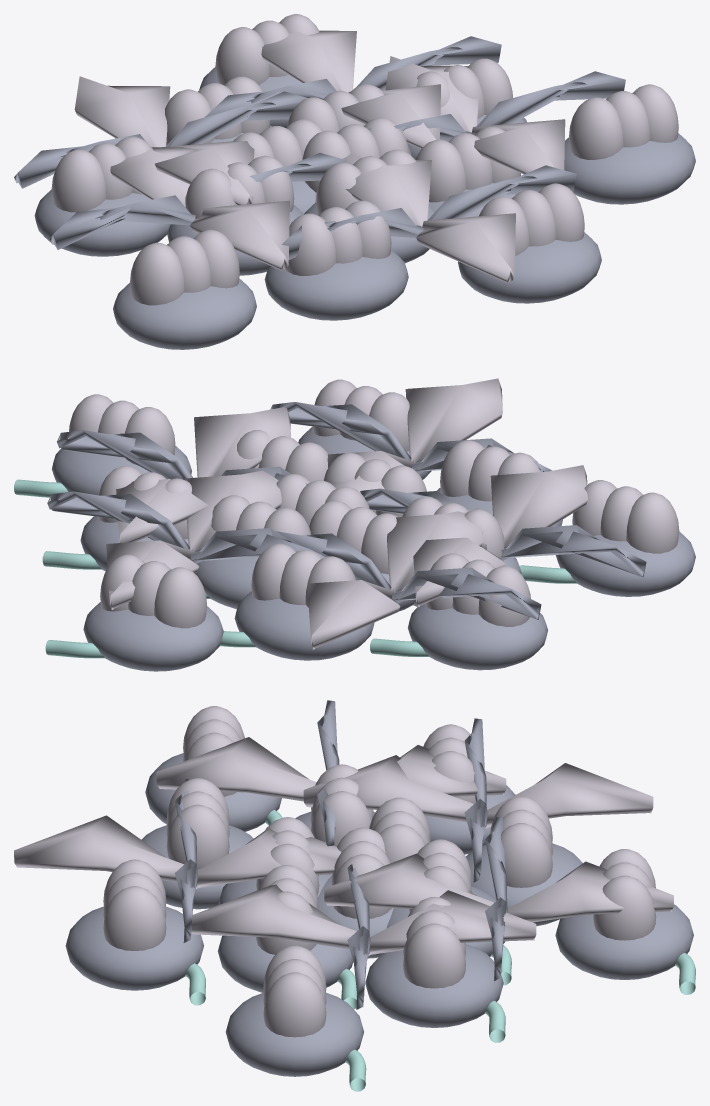
File: bio_acid_mat_25_near.glb
The picture shows the model from 3 angles, top to bottom: view 1: azimuth 30°, elevation 25°; view 2: azimuth 150°, elevation 25°; view 3: azimuth 270°, elevation 25°; orthographic projection. The views are drawn at different scales.
Parts seen in each view (by area): view 1: Low buttress leaf.009, Low buttress leaf.013, Low buttress leaf.005, Low buttress leaf.017, Microbial cushion.012, Microbial cushion.007, Microbial cushion.013, Reaction vesicle.036, Reaction vesicle.039, Low buttress leaf.001, Microbial cushion.010, Reaction vesicle.021 (+21 smaller); view 2: Low buttress leaf.005, Low buttress leaf.017, Low buttress leaf.001, Low buttress leaf.009, Microbial cushion.011, Microbial cushion.009, Low buttress leaf.013, Reaction vesicle.036, Low buttress leaf.012, Reaction vesicle.033, Low buttress leaf.004, Microbial cushion.006 (+27 smaller); view 3: Low buttress leaf.001, Low buttress leaf.009, Low buttress leaf.005, Low buttress leaf.013, Low buttress leaf.017, Microbial cushion.013, Microbial cushion.008, Microbial cushion.010, Microbial cushion.011, Reaction vesicle.030, Reaction vesicle.039, Reaction vesicle.024 (+28 smaller).
Part boxes in pixels (x1=…): Low buttress leaf.009: x1=343, y1=153, x2=515, y2=283; Low buttress leaf.013: x1=261, y1=30, x2=440, y2=148; Low buttress leaf.005: x1=74, y1=76, x2=254, y2=204; Low buttress leaf.017: x1=110, y1=137, x2=289, y2=270; Microbial cushion.012: x1=113, y1=278, x2=256, y2=349; Microbial cushion.007: x1=264, y1=249, x2=408, y2=320; Microbial cushion.013: x1=564, y1=133, x2=695, y2=204; Reaction vesicle.036: x1=130, y1=229, x2=239, y2=305; Reaction vesicle.039: x1=569, y1=84, x2=678, y2=159; Low buttress leaf.001: x1=385, y1=56, x2=565, y2=174; Microbial cushion.010: x1=458, y1=232, x2=601, y2=303; Reaction vesicle.021: x1=285, y1=200, x2=391, y2=275; Low buttress leaf.005: x1=307, y1=507, x2=482, y2=649; Low buttress leaf.017: x1=413, y1=465, x2=587, y2=606; Low buttress leaf.001: x1=116, y1=407, x2=290, y2=542; Low buttress leaf.009: x1=327, y1=378, x2=502, y2=492; Microbial cushion.011: x1=83, y1=602, x2=223, y2=671; Microbial cushion.009: x1=408, y1=604, x2=547, y2=670; Low buttress leaf.013: x1=106, y1=470, x2=281, y2=609; Reaction vesicle.036: x1=572, y1=480, x2=679, y2=553; Low buttress leaf.012: x1=47, y1=491, x2=325, y2=563; Reaction vesicle.033: x1=100, y1=554, x2=206, y2=628; Low buttress leaf.004: x1=276, y1=531, x2=541, y2=619; Microbial cushion.006: x1=234, y1=591, x2=374, y2=660; Low buttress leaf.001: x1=191, y1=884, x2=536, y2=956; Low buttress leaf.009: x1=14, y1=815, x2=341, y2=889; Low buttress leaf.005: x1=303, y1=755, x2=653, y2=828; Low buttress leaf.013: x1=324, y1=853, x2=673, y2=922; Low buttress leaf.017: x1=156, y1=737, x2=506, y2=801; Microbial cushion.013: x1=225, y1=992, x2=363, y2=1076; Microbial cushion.008: x1=365, y1=944, x2=503, y2=1027; Microbial cushion.010: x1=65, y1=906, x2=203, y2=990; Microbial cushion.011: x1=555, y1=904, x2=693, y2=979; Reaction vesicle.030: x1=103, y1=859, x2=166, y2=950; Reaction vesicle.039: x1=263, y1=945, x2=326, y2=1037; Reaction vesicle.024: x1=403, y1=897, x2=465, y2=988.
Size of the model in its own units: 2.38 by 0.38 by 2.16.
